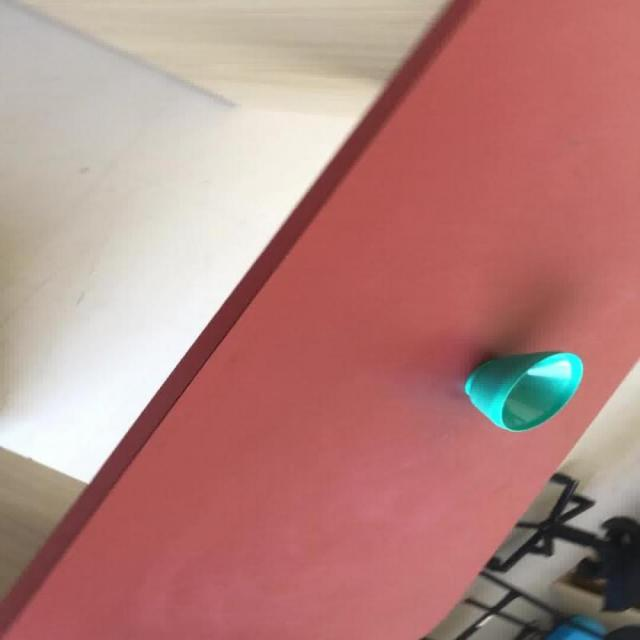Bowl: (1, 0, 638, 638), (462, 349, 583, 433)
